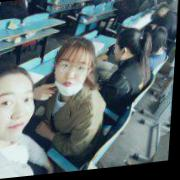NONE: (1, 79, 38, 144)
WRONG: (56, 53, 92, 98)
